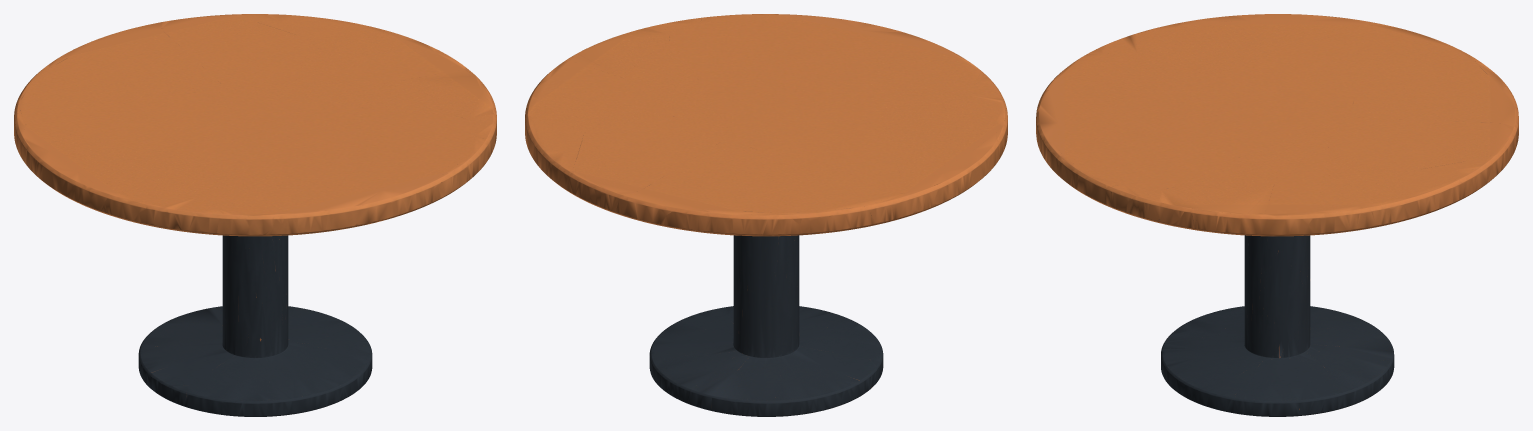
File: meet_table.glb
3 renders of one model, left to right at view 1: azimuth 30°, elevation 25°; view 2: azimuth 150°, elevation 25°; view 3: azimuth 270°, elevation 25°, orthographic.
Visible parts, largest first — view 1: meshy_meet_table; view 2: meshy_meet_table; view 3: meshy_meet_table.
Part boxes in pixels (left/top/right/bottom): meshy_meet_table: left=14, top=14, right=496, bottom=416; meshy_meet_table: left=525, top=14, right=1007, bottom=416; meshy_meet_table: left=1036, top=14, right=1518, bottom=416.
Bounding box in the file's own units: 1.29 × 0.75 × 1.29.
Materials: 1 (1 with a texture image).
